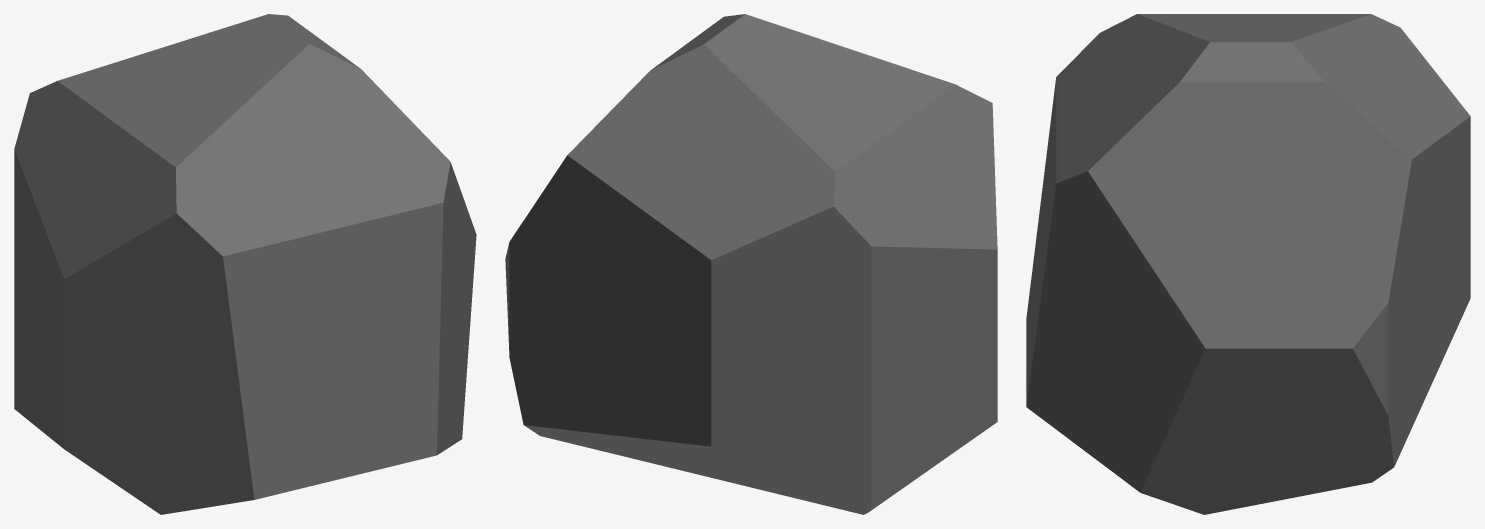
Rendered from Rock_06.fbx.
3 views of the same model, side by side, from view 1: azimuth 30°, elevation 25°; view 2: azimuth 150°, elevation 25°; view 3: azimuth 270°, elevation 25° (orthographic). The views are drawn at different scales.
Parts seen in each view (by area): view 1: Rock_06_LOD0; view 2: Rock_06_LOD0; view 3: Rock_06_LOD0.
Boxes of the visible parts, x1=… form: Rock_06_LOD0: x1=14, y1=14, x2=476, y2=514; Rock_06_LOD0: x1=505, y1=14, x2=997, y2=514; Rock_06_LOD0: x1=1026, y1=14, x2=1470, y2=514.
Size of what is drawn, in the model's own units: 0.972 by 0.9559 by 0.9173.
